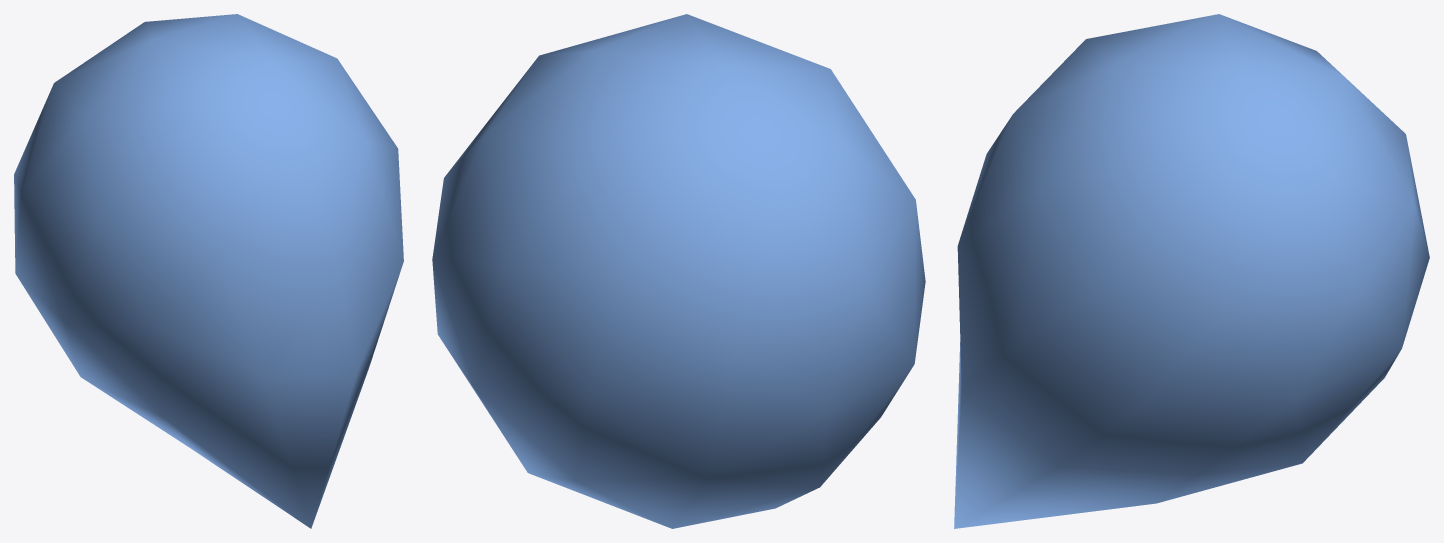
The model's file is bubble.fbx.
3 renders of one model, left to right at view 1: azimuth 30°, elevation 25°; view 2: azimuth 150°, elevation 25°; view 3: azimuth 270°, elevation 25°, orthographic. The views are drawn at different scales.
Visible parts, largest first — view 1: Icosphere; view 2: Icosphere; view 3: Icosphere.
Part boxes in pixels (x1,y1,x2,y2): Icosphere: (14, 14, 403, 528); Icosphere: (432, 14, 925, 528); Icosphere: (954, 14, 1429, 528).
Bounding box in the file's own units: 190 × 228 × 202.
